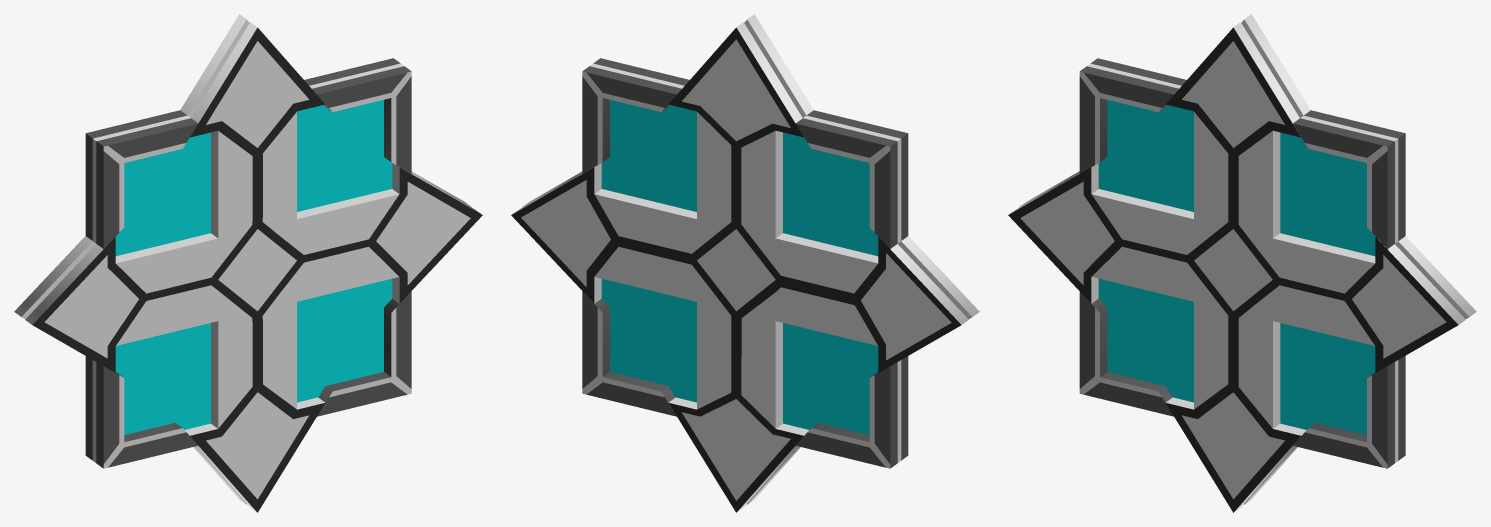
File: shield_arm.fbx
The picture shows the model from 3 angles, left to right: view 1: azimuth 30°, elevation 25°; view 2: azimuth 150°, elevation 25°; view 3: azimuth 330°, elevation 25°; orthographic projection.
Visible parts, largest first — view 1: polySurface436; view 2: polySurface436; view 3: polySurface436.
Part boxes in pixels (x1,y1,x2,y2): polySurface436: [14, 14, 482, 512]; polySurface436: [511, 14, 979, 512]; polySurface436: [1008, 14, 1476, 512].
Size of the model in its own units: 1.86 by 1.92 by 0.1305.
